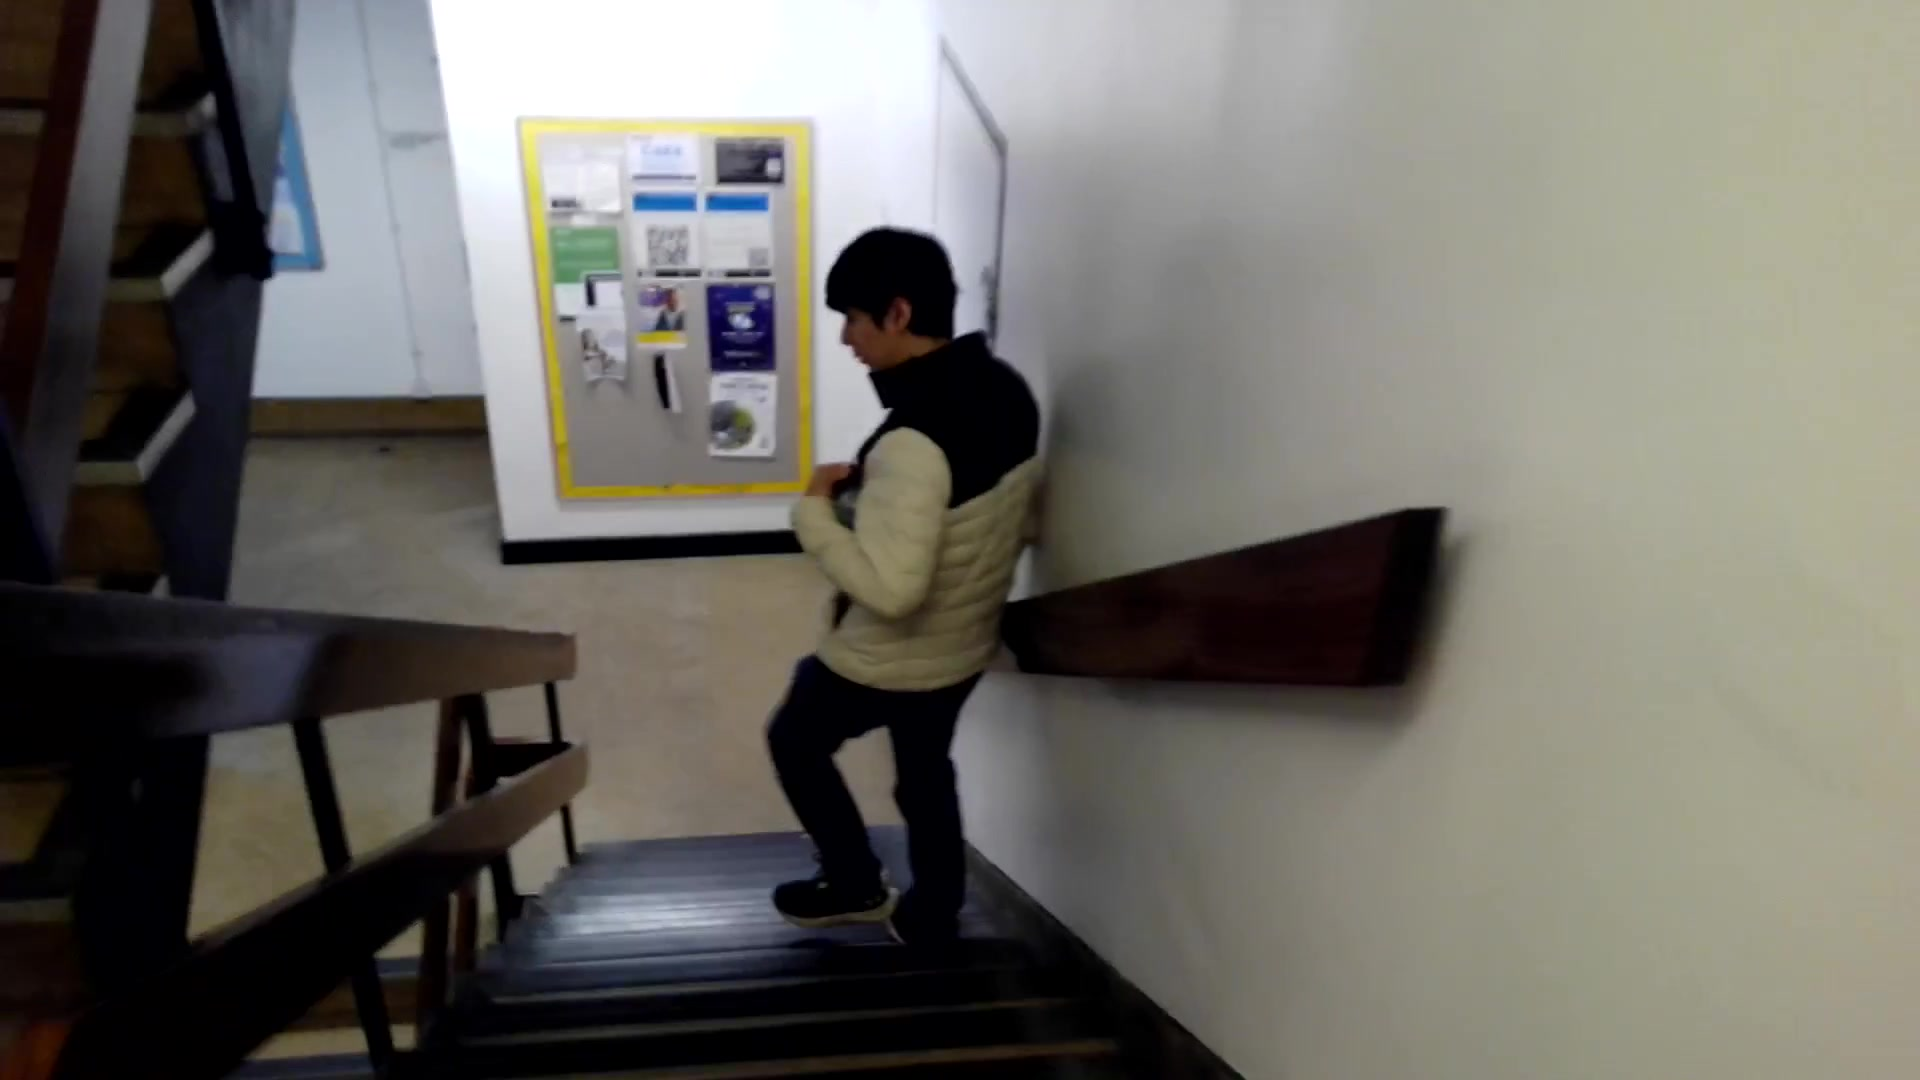Person: (774, 206, 1020, 943)
Stairs: (513, 813, 1232, 1080)
